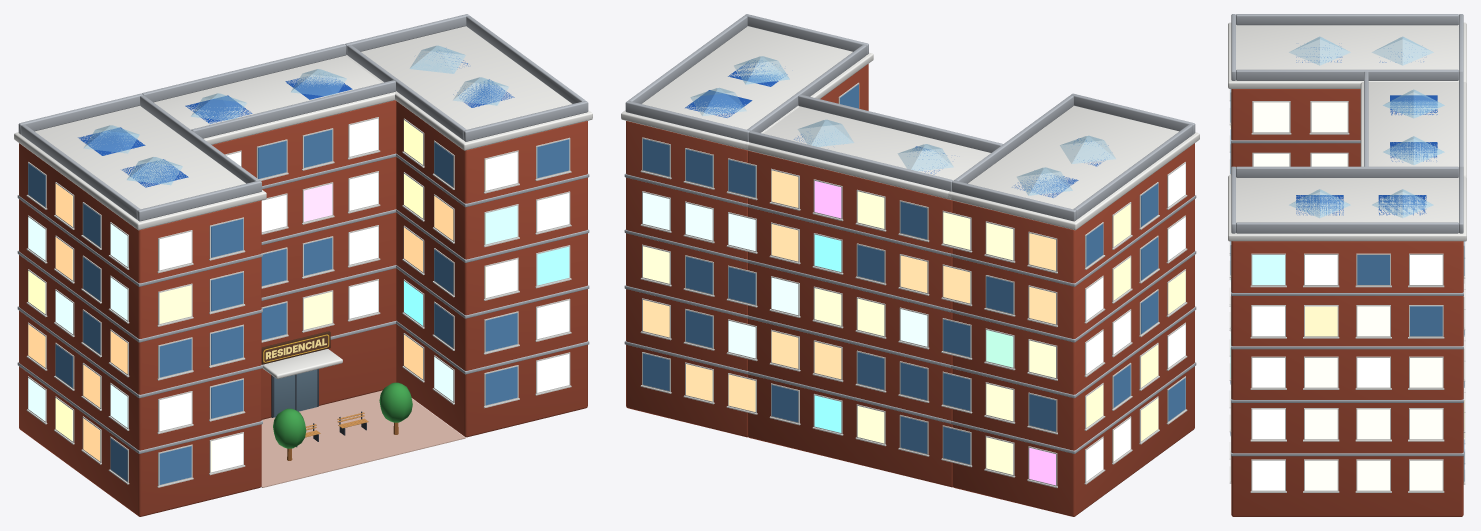
The model's file is apartamentos_tijolo_u.glb.
3 views of the same model, side by side, from view 1: azimuth 30°, elevation 25°; view 2: azimuth 150°, elevation 25°; view 3: azimuth 270°, elevation 25° (orthographic). The views are drawn at different scales.
Parts seen in each view (by area): view 1: apartamentos_tijolo_u; view 2: apartamentos_tijolo_u; view 3: apartamentos_tijolo_u.
Boxes of the visible parts, box(x1,y1,x2,y2) form: apartamentos_tijolo_u: box(14, 14, 592, 516); apartamentos_tijolo_u: box(621, 14, 1199, 516); apartamentos_tijolo_u: box(1228, 14, 1466, 516).
Size of the model in its own units: 27.36 by 18.15 by 12.96.
Materials: 11 (2 with a texture image).
